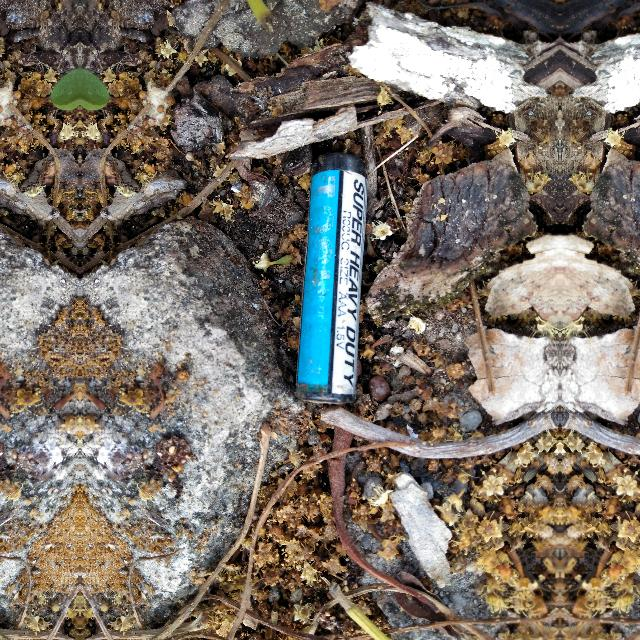Metal: (279, 148, 377, 432)
